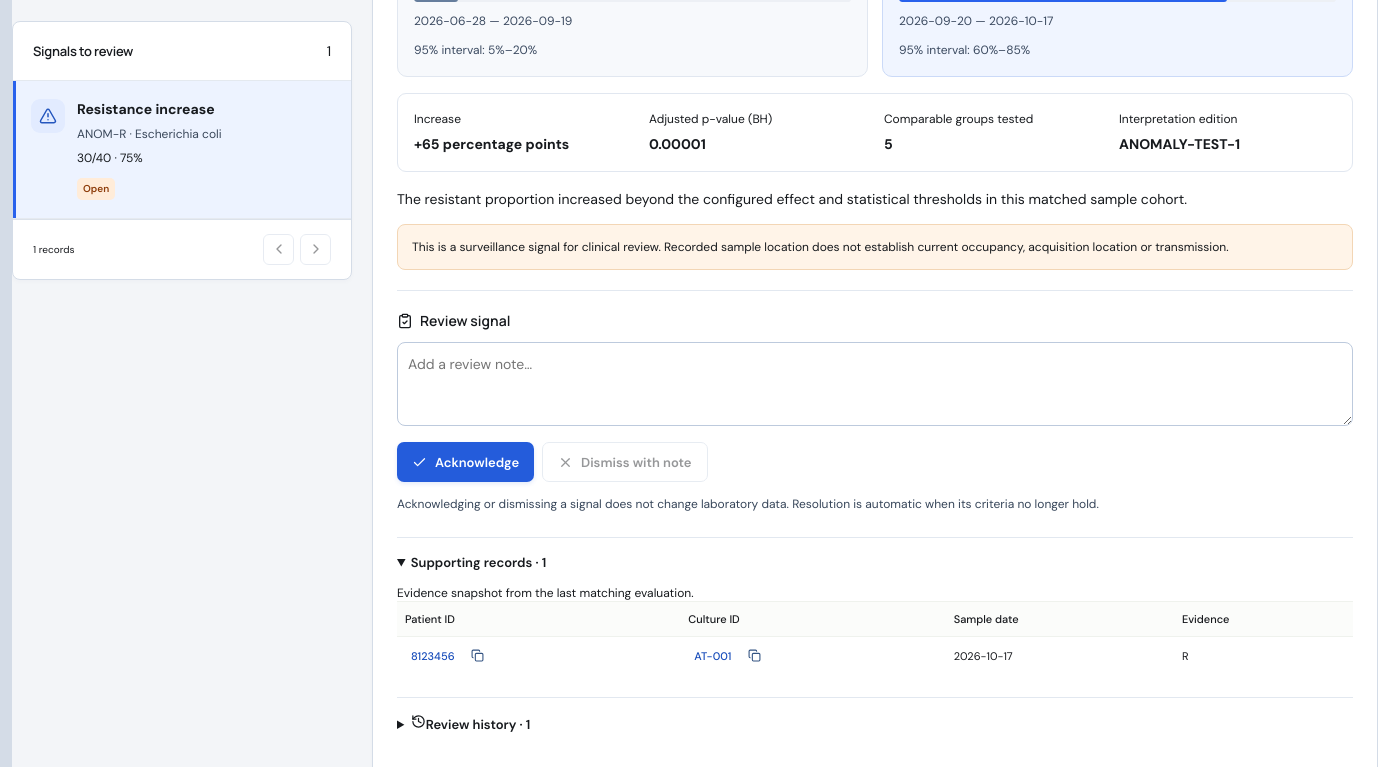
it: anomaly review workspace › refreshes a stale review without losing its note or pretending it succeeded
This screenshot has width=1378, height=767.
(page scrolled)
Type "Keep this note" into the text box labelled "review note" at (875, 384), box [397, 342, 1353, 426]
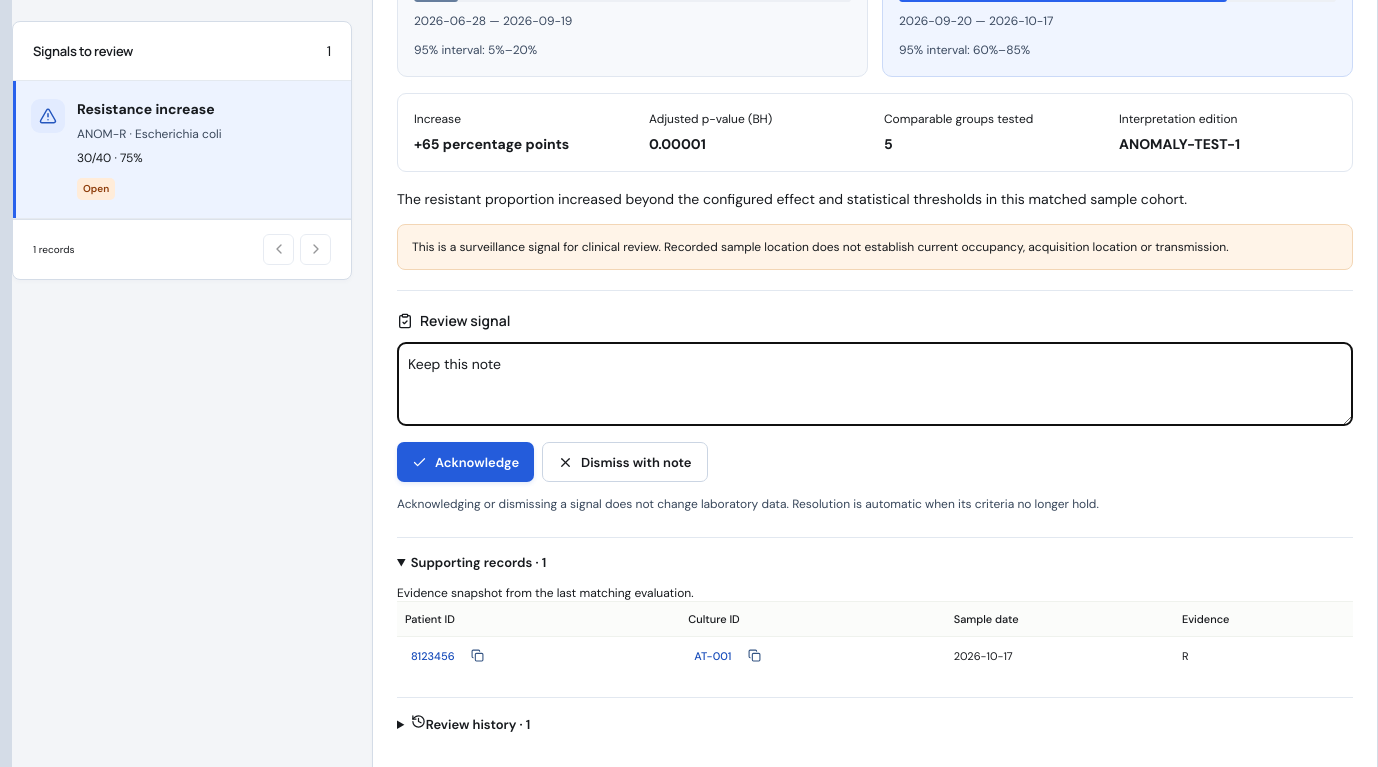
Click the button "Acknowledge" at (466, 462), box [397, 442, 534, 482]
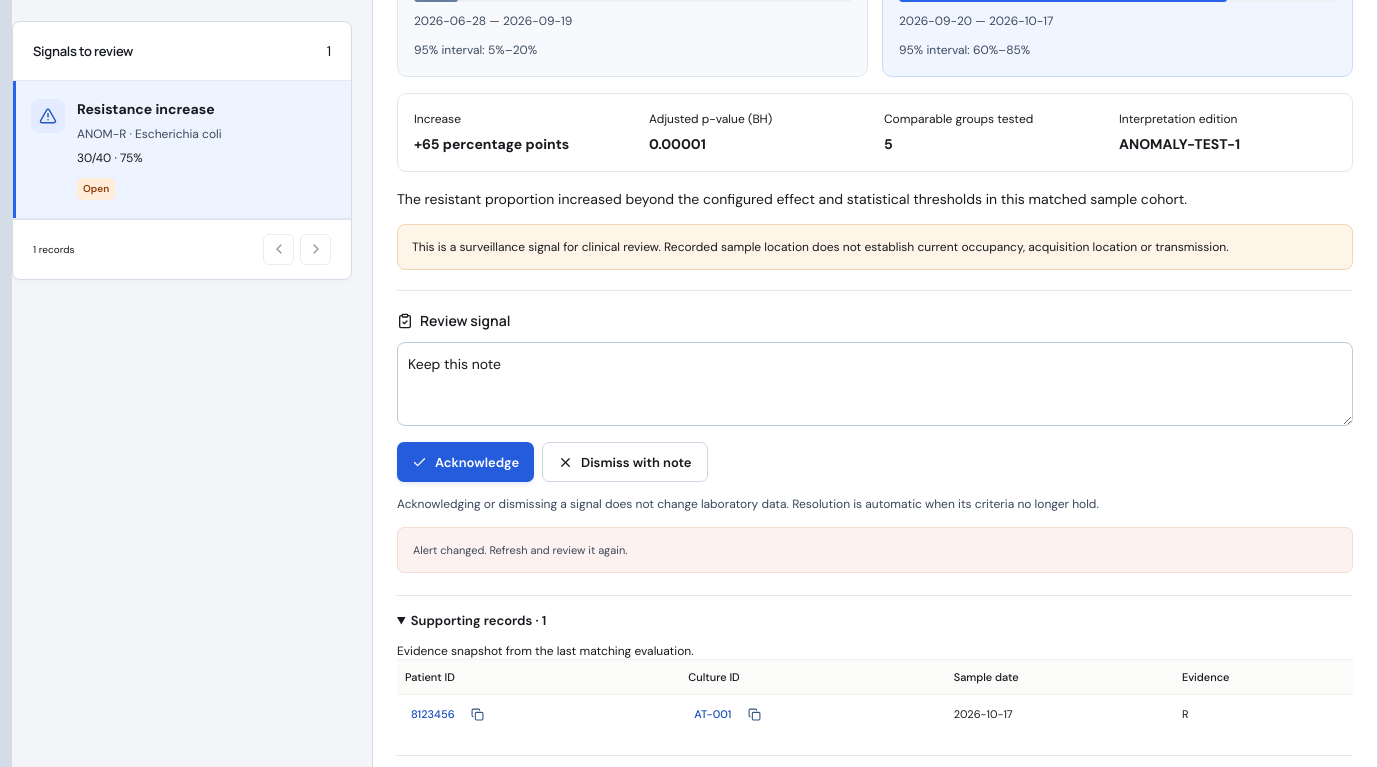
Result: the message reads "Alert changed. Refresh and review it again." at [413, 543, 627, 557]
